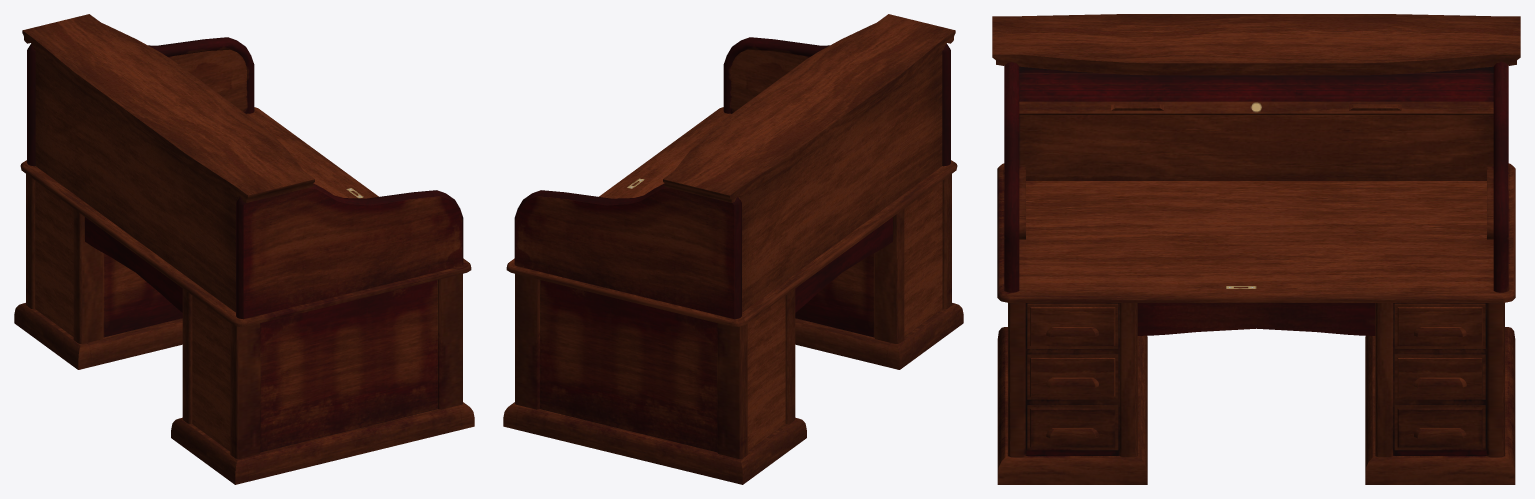
Rendered from table.obj.
The picture shows the model from 3 angles, left to right: view 1: azimuth 30°, elevation 25°; view 2: azimuth 150°, elevation 25°; view 3: azimuth 270°, elevation 25°; orthographic projection. The views are drawn at different scales.
Parts seen in each view (by area): view 1: Table_Table_mat_0; view 2: Table_Table_mat_0; view 3: Table_Table_mat_0.
Part boxes in pixels (bbox=[...]): Table_Table_mat_0: bbox=[14, 14, 474, 484]; Table_Table_mat_0: bbox=[503, 14, 963, 484]; Table_Table_mat_0: bbox=[992, 14, 1520, 484].
Size of the model in its own units: 0.097 by 0.1112 by 0.1577.
